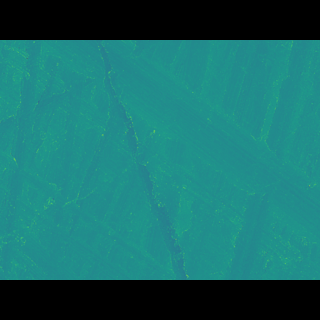Loch: (37, 70, 319, 222), (92, 69, 197, 251), (0, 152, 173, 249), (0, 69, 43, 249)
